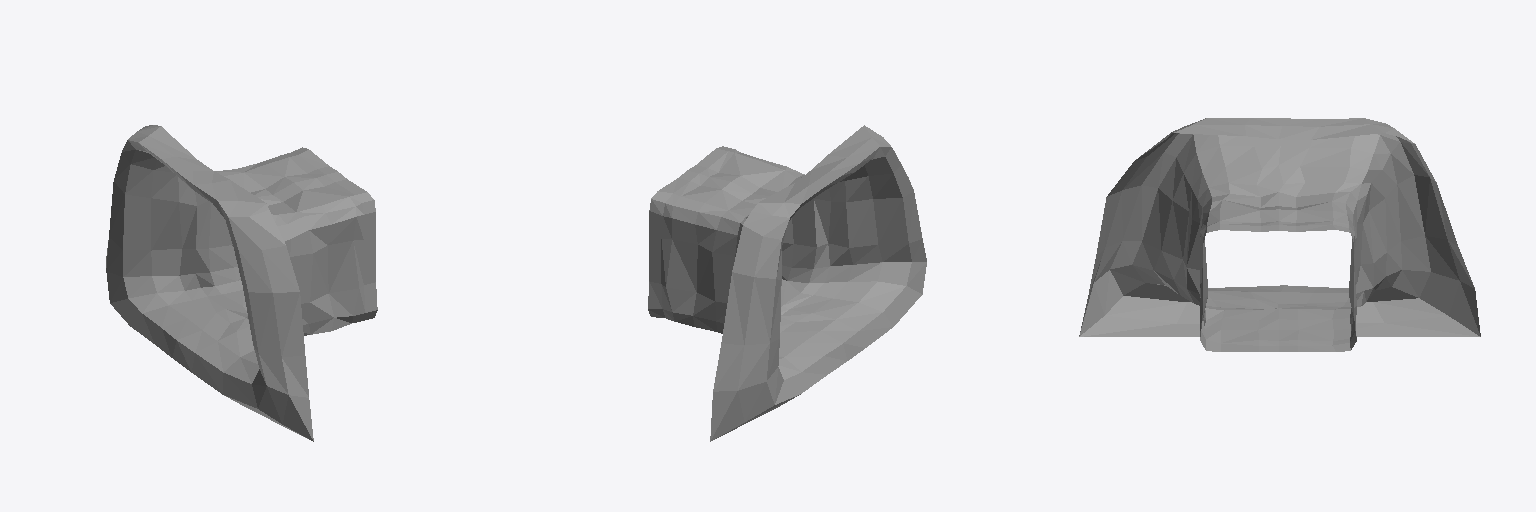
Rendered from Entrance.obj.
3 renders of one model, left to right at view 1: azimuth 30°, elevation 25°; view 2: azimuth 150°, elevation 25°; view 3: azimuth 270°, elevation 25°, orthographic.
Parts seen in each view (by area): view 1: Entrance; view 2: Entrance; view 3: Entrance.
Part boxes in pixels (x1,y1,x2,y2): Entrance: (106, 125, 377, 441); Entrance: (648, 125, 926, 441); Entrance: (1079, 118, 1480, 351).
Bounding box in the file's own units: 3.54 × 4.23 × 7.54.